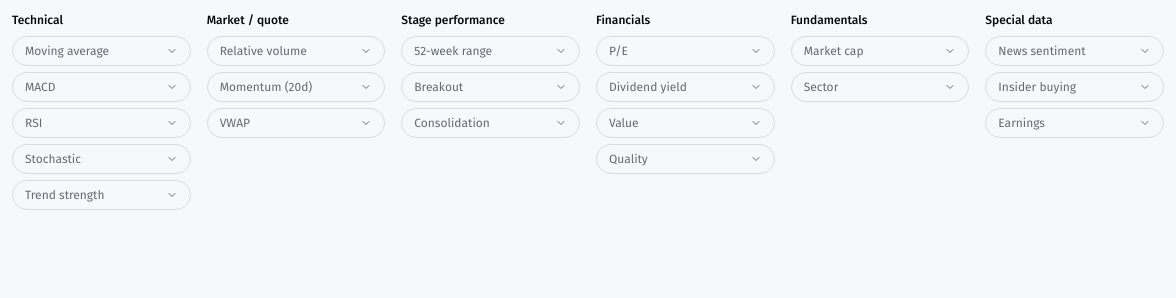
ConditionBuilder › shows a live match count for the selected technical conditions
What coordinates should you click on to do the following:
click the button with test id "condition-pill-RSI"
I would click on:
 (101, 123)
Its box is [12,108,191,138].
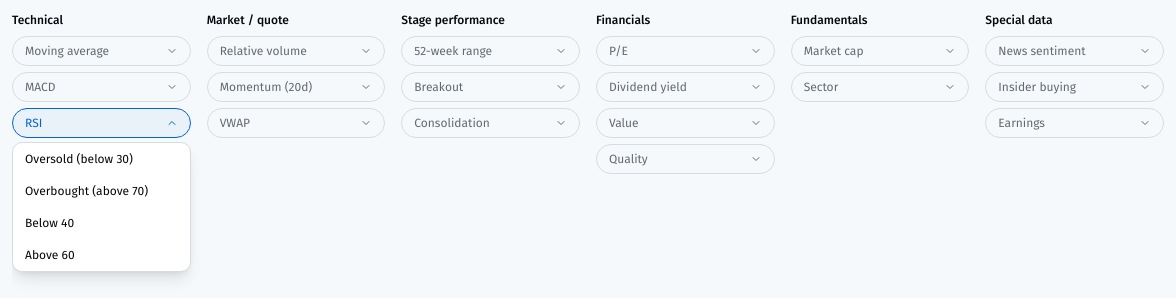
What coordinates should you click on to do the following:
click the button "Oversold (below 30)"
I would click on:
 (101, 159)
Its box is [13,143,190,175].
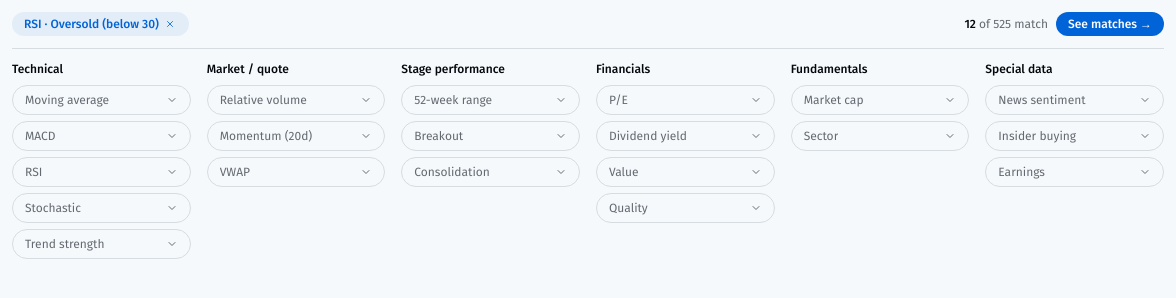
expect the element with test id "condition-count" reads "12 of 525 match": met, box [964,16,1048,32]
